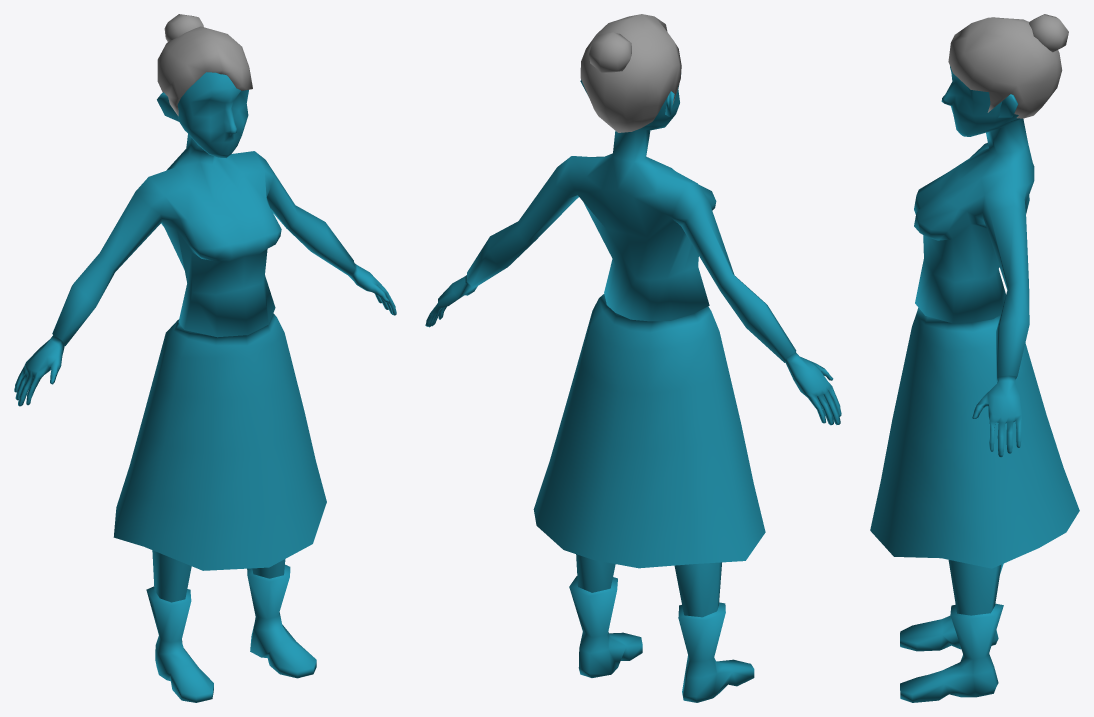
File: woman_commoner_1.obj
3 views of the same model, side by side, from view 1: azimuth 30°, elevation 25°; view 2: azimuth 150°, elevation 25°; view 3: azimuth 270°, elevation 25° (orthographic). The views are drawn at different scales.
Visible parts, largest first — view 1: woman_commoner_1; view 2: woman_commoner_1; view 3: woman_commoner_1.
Boxes of the visible parts, <box> form: woman_commoner_1: <box>14,14,396,702</box>; woman_commoner_1: <box>425,14,841,702</box>; woman_commoner_1: <box>870,14,1079,702</box>.
Bounding box in the file's own units: 44.63 × 70.59 × 20.53.
